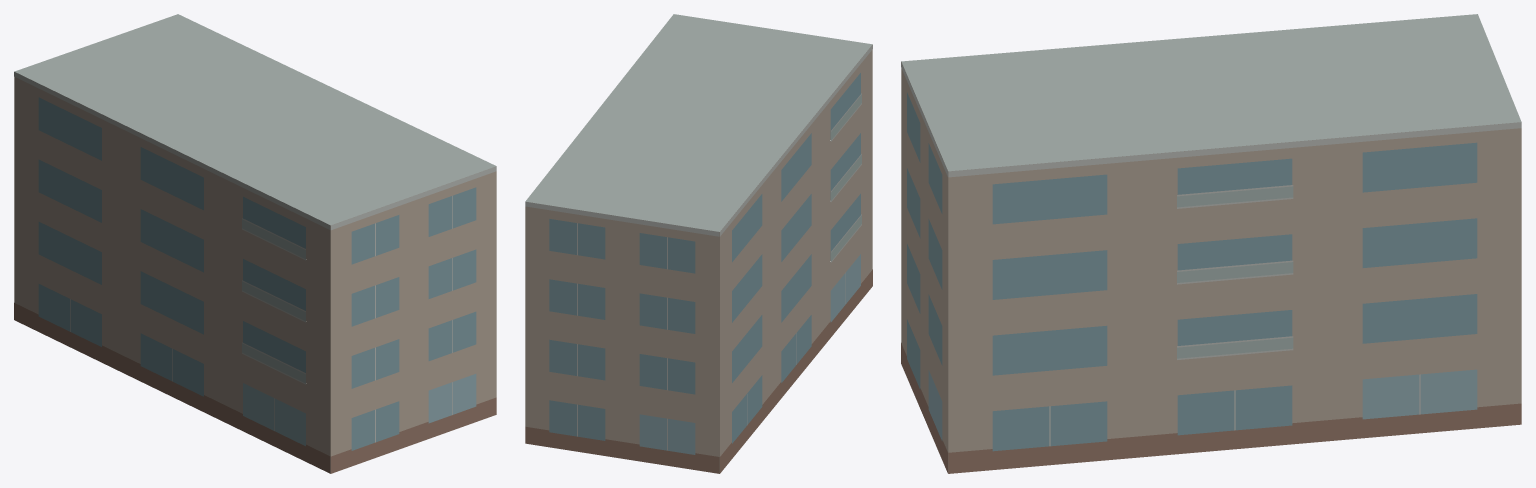
Rendered from survey-upis-32748698.glb.
3 views of the same model, side by side, from view 1: azimuth 30°, elevation 25°; view 2: azimuth 150°, elevation 25°; view 3: azimuth 270°, elevation 25° (orthographic). The views are drawn at different scales.
Parts seen in each view (by area): view 1: survey-upis-32748698.tmp; view 2: survey-upis-32748698.tmp; view 3: survey-upis-32748698.tmp.
Part boxes in pixels (left/top/right/bottom): survey-upis-32748698.tmp: left=14, top=14, right=496, bottom=473; survey-upis-32748698.tmp: left=525, top=14, right=872, bottom=473; survey-upis-32748698.tmp: left=901, top=14, right=1521, bottom=473.
Bounding box in the file's own units: 13.63 × 12.2 × 22.69.
